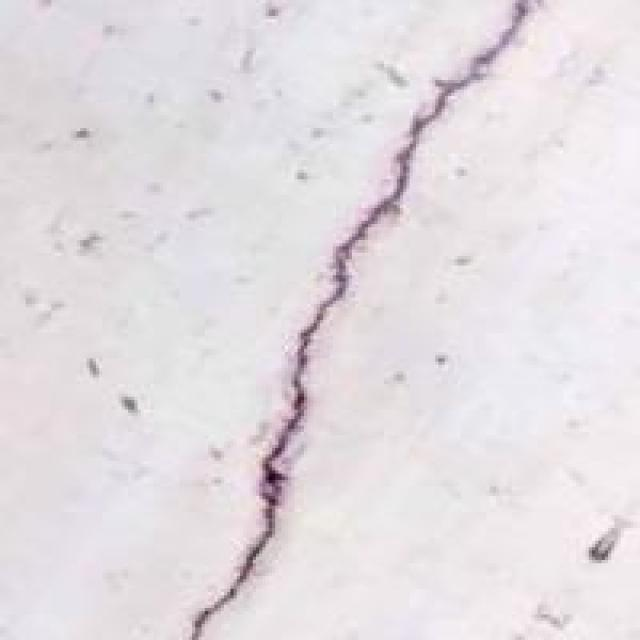crack: (173, 6, 531, 637)
